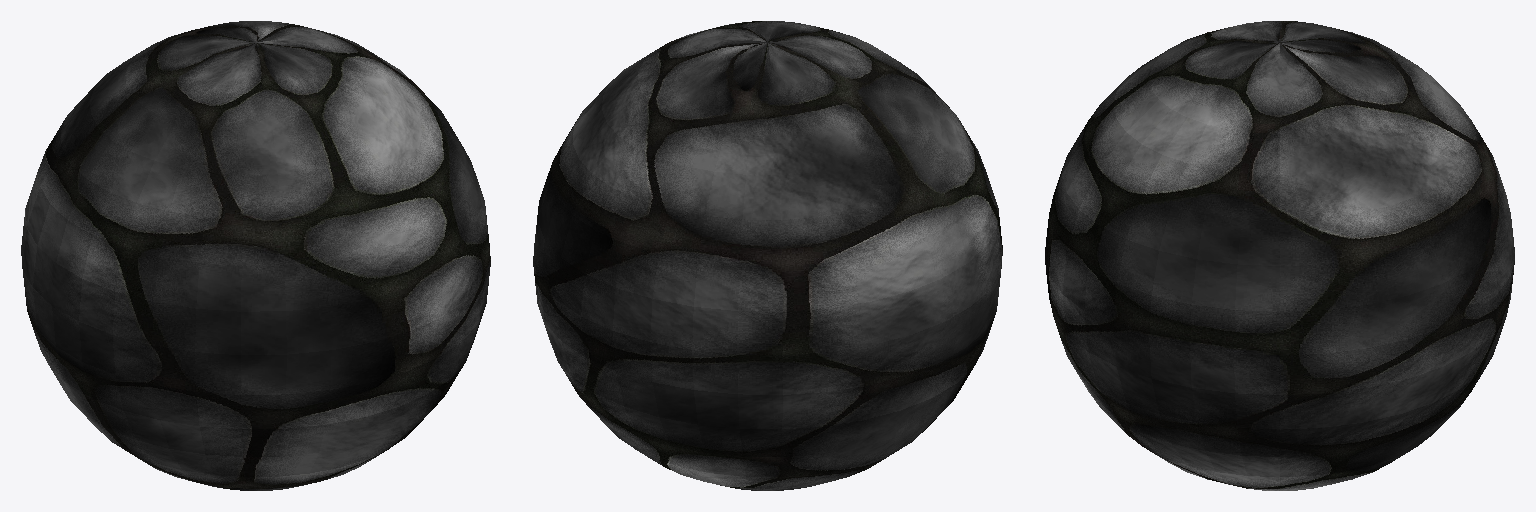
3 views of the same model, side by side, from view 1: azimuth 30°, elevation 25°; view 2: azimuth 150°, elevation 25°; view 3: azimuth 270°, elevation 25° (orthographic).
Parts seen in each view (by area): view 1: Sphere; view 2: Sphere; view 3: Sphere.
Part boxes in pixels (left/top/right/bottom): Sphere: left=21, top=21, right=490, bottom=490; Sphere: left=533, top=21, right=1002, bottom=490; Sphere: left=1045, top=21, right=1514, bottom=490.
Size of the model in its own units: 2 by 2 by 2.
Materials: 1 (1 with a texture image).